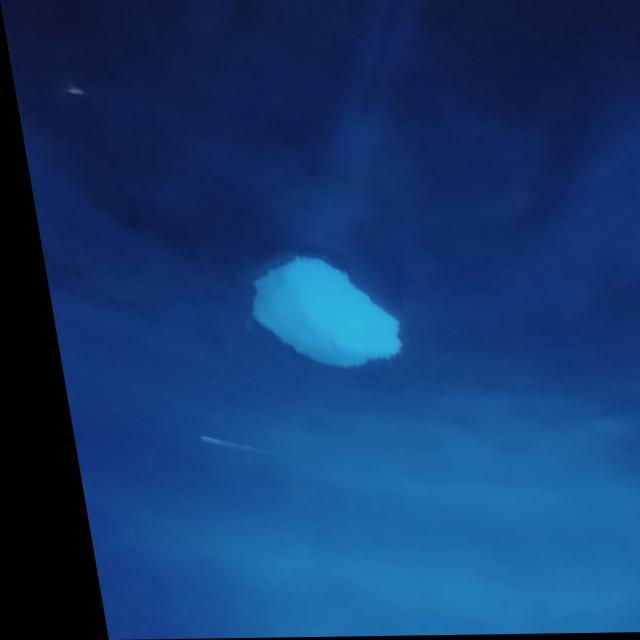thermocoal: (218, 245, 404, 391)
